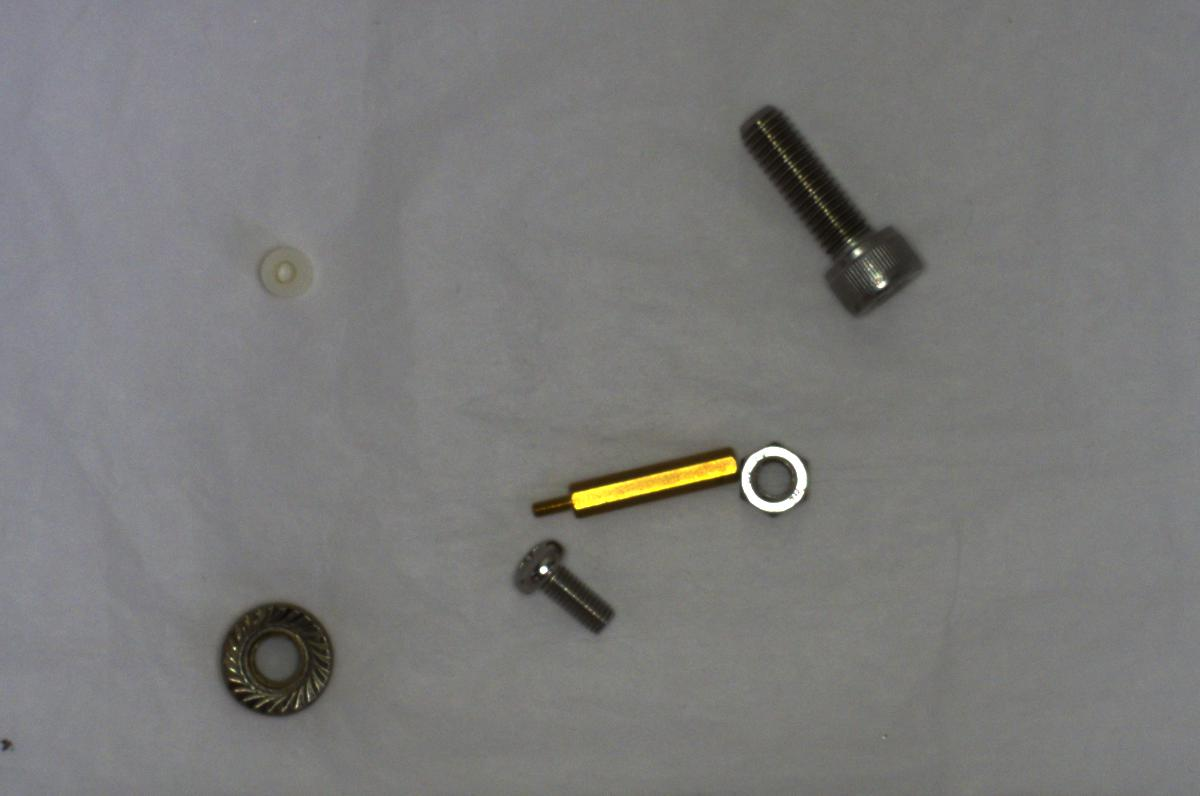Flange nut: (207, 590, 352, 726)
Hexagon nut: (731, 435, 817, 525)
Hexagon pillar: (526, 441, 742, 522)
Hexagon screw: (737, 96, 927, 319)
Plastic cushion pillar: (251, 235, 315, 300)
Round head screw: (510, 534, 615, 636)
